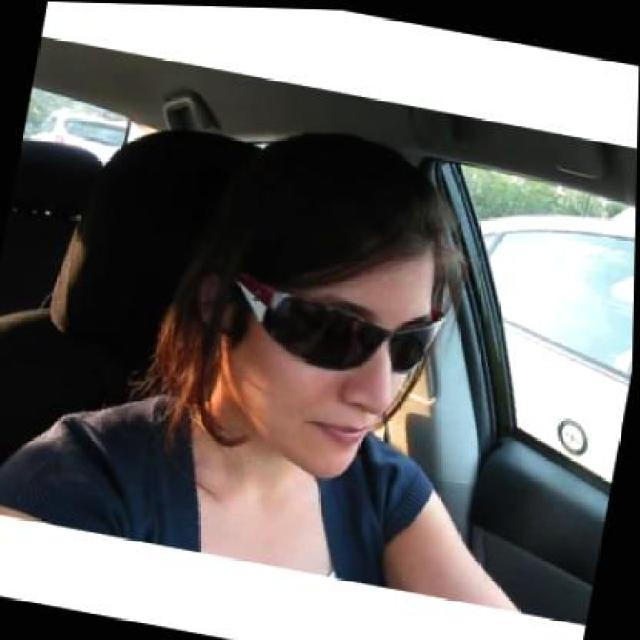attentif: (170, 104, 462, 496)
